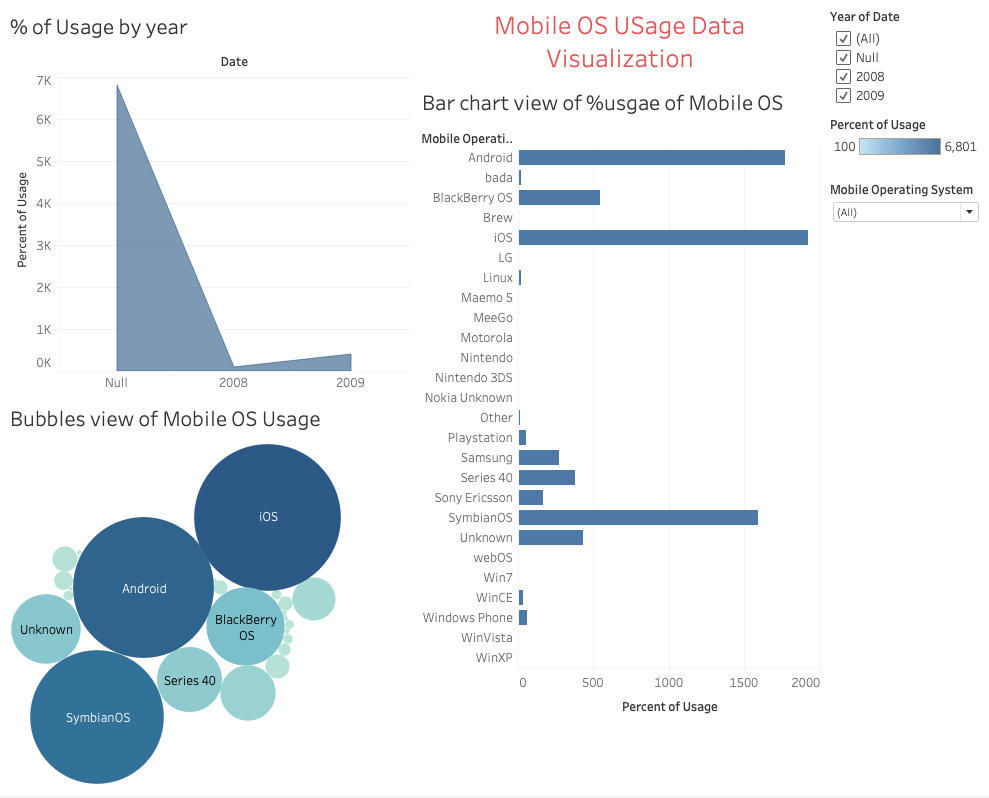

The page's visual inventory and layout, read from the dashboard file:
{"tool":"tableau","page":{"name":"Dashboard 1","canvas":[1000,800],"ordinal":0},"visuals":[{"type":"worksheet","title":"Sheet 4","mark":"Area","rows":["Percent of Usage"],"cols":["Date"],"box":[8,8,412,392]},{"type":"title","box":[420,8,412,76]},{"type":"filter","title":"Sheet 4","param":"[federated.1p5qjsd0ahwjtb13j89mv1fgg5pg].[yr:Date:ok]","box":[832,8,160,108]},{"type":"worksheet","title":"Sheet 3","mark":"Automatic","rows":["Mobile Operating System"],"cols":["Percent of Usage"],"box":[420,84,412,646]},{"type":"legend","title":"Sheet 4","param":"[federated.1p5qjsd0ahwjtb13j89mv1fgg5pg].[sum:Percent of Usage:qk]","box":[832,116,160,65]},{"type":"filter","title":"Sheet 2","param":"[federated.1p5qjsd0ahwjtb13j89mv1fgg5pg].[none:Mobile Operating System:nk]","box":[832,181,160,52]},{"type":"worksheet","title":"Sheet 2","mark":"Circle","box":[8,400,412,392]}]}

Visuals, with their boxes in screenshot pixels (x1, y1, x2, y2), scaled from the page's 1000x800 canvas onto the 989x798 screenshot:
"Sheet 4" worksheet (Area marks): x1=8, y1=8, x2=415, y2=399
title: x1=415, y1=8, x2=823, y2=84
"Sheet 4" filter: x1=823, y1=8, x2=981, y2=116
"Sheet 3" worksheet: x1=415, y1=84, x2=823, y2=728
"Sheet 4" legend: x1=823, y1=116, x2=981, y2=181
"Sheet 2" filter: x1=823, y1=181, x2=981, y2=232
"Sheet 2" worksheet (Circle marks): x1=8, y1=399, x2=415, y2=790
